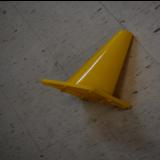cone: (40, 28, 133, 108)
